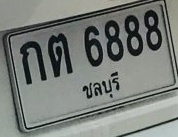txt01: (18, 40, 48, 87)
txt16: (46, 32, 74, 79)
